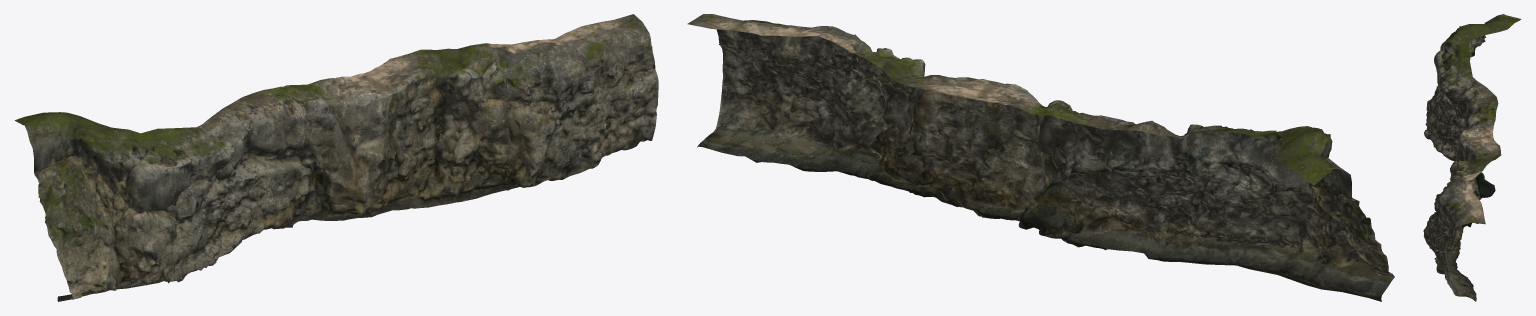
The model's file is cliff_a.jpg-JdeAxPyo.glb.
3 renders of one model, left to right at view 1: azimuth 30°, elevation 25°; view 2: azimuth 150°, elevation 25°; view 3: azimuth 270°, elevation 25°, orthographic. The views are drawn at different scales.
Parts seen in each view (by area): view 1: coastal_cliff_02_LOD0; view 2: coastal_cliff_02_LOD0; view 3: coastal_cliff_02_LOD0.
Part boxes in pixels (x1,y1,x2,y2): coastal_cliff_02_LOD0: (14,14,658,301); coastal_cliff_02_LOD0: (687,14,1394,301); coastal_cliff_02_LOD0: (1423,14,1521,301).
Size of the model in its own units: 40.93 by 10.05 by 8.65.
1 material, 1 textured.
